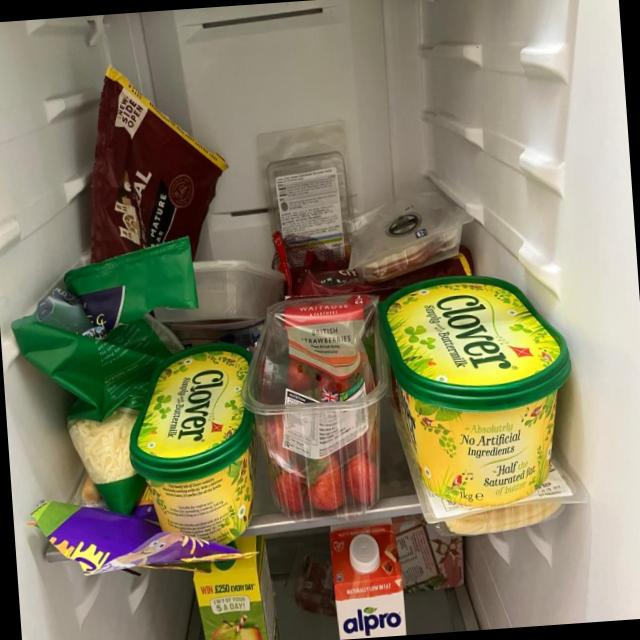Carne cerdo: (353, 192, 459, 277), (291, 546, 337, 611)
Mantequilla: (379, 270, 564, 507), (140, 340, 264, 544)
Queso: (85, 64, 214, 284), (49, 289, 155, 511)
